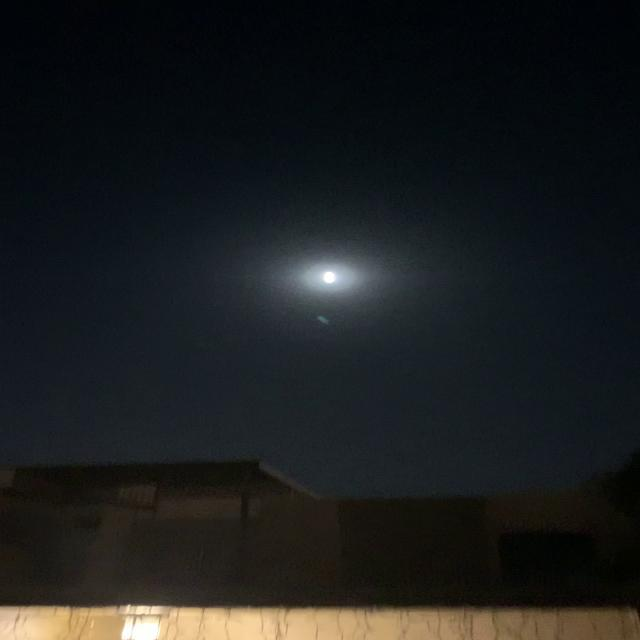moon: (312, 266, 364, 290)
